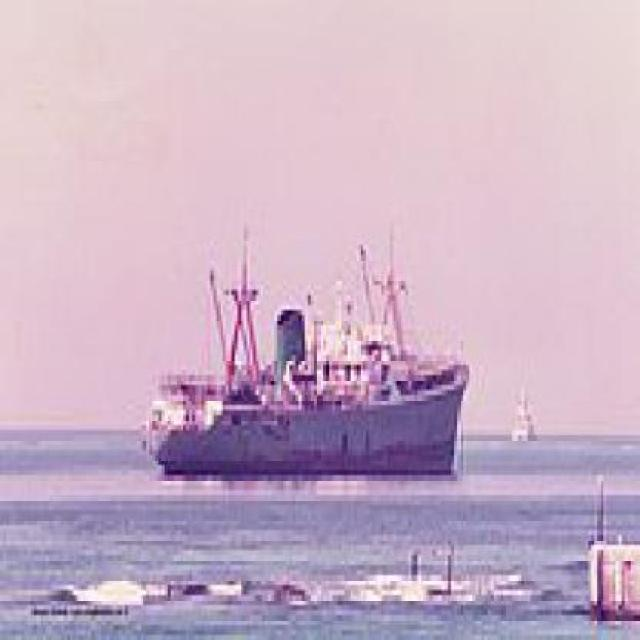container: (141, 206, 476, 491)
